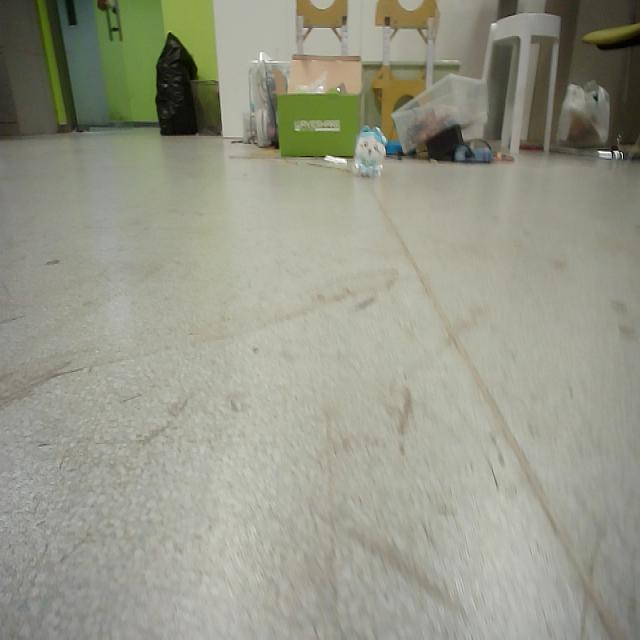xiaoba: (354, 126, 384, 181)
